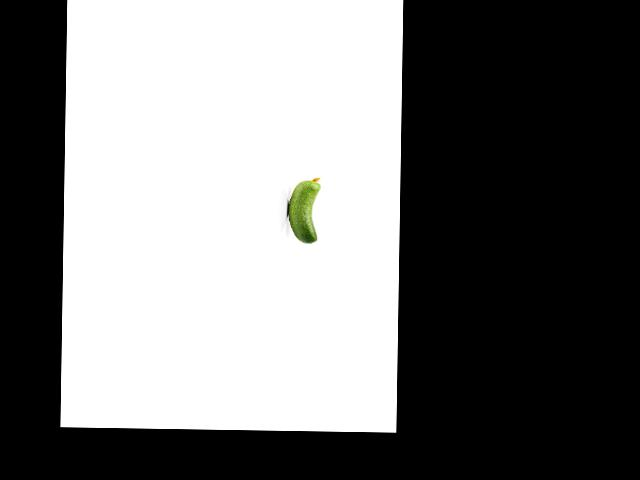cucumber: (287, 176, 321, 244)
